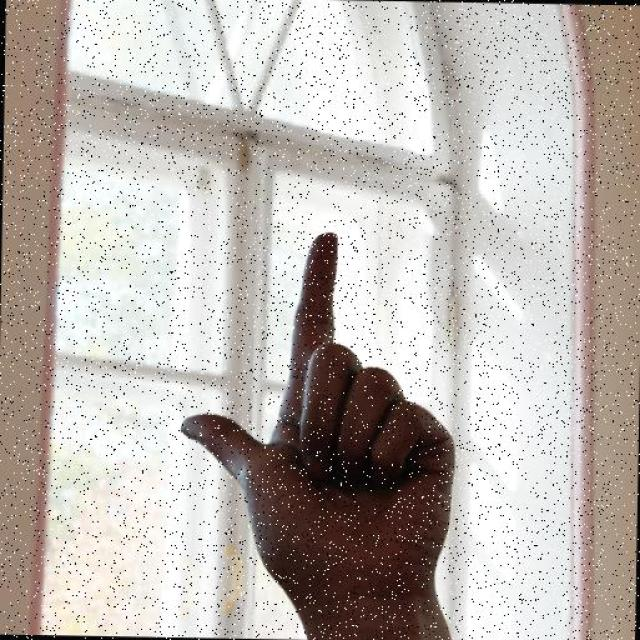L: (172, 227, 462, 593)
